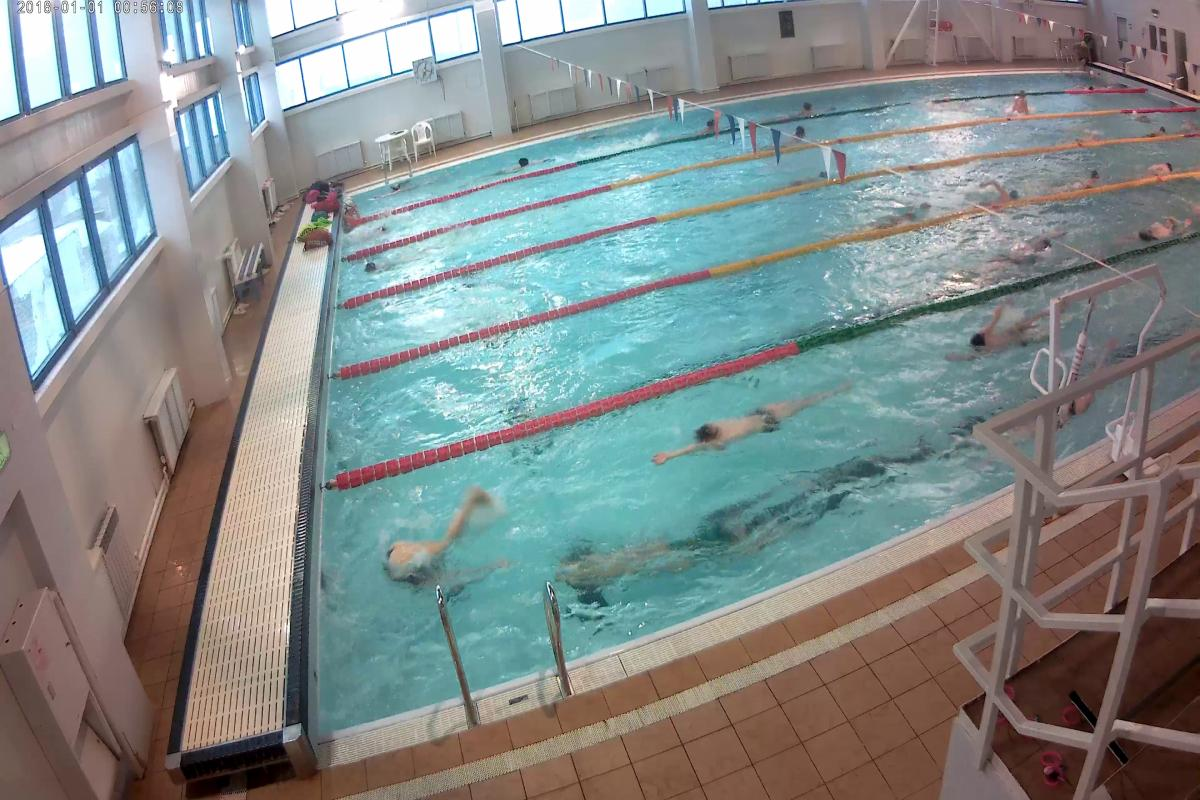swimmer: (640, 382, 855, 469), (555, 520, 764, 590), (389, 485, 500, 588), (944, 303, 1035, 368), (866, 198, 936, 235), (961, 175, 1027, 209), (1133, 209, 1187, 242), (1142, 150, 1186, 178), (1064, 162, 1113, 184), (775, 123, 815, 148), (1008, 86, 1034, 116)
